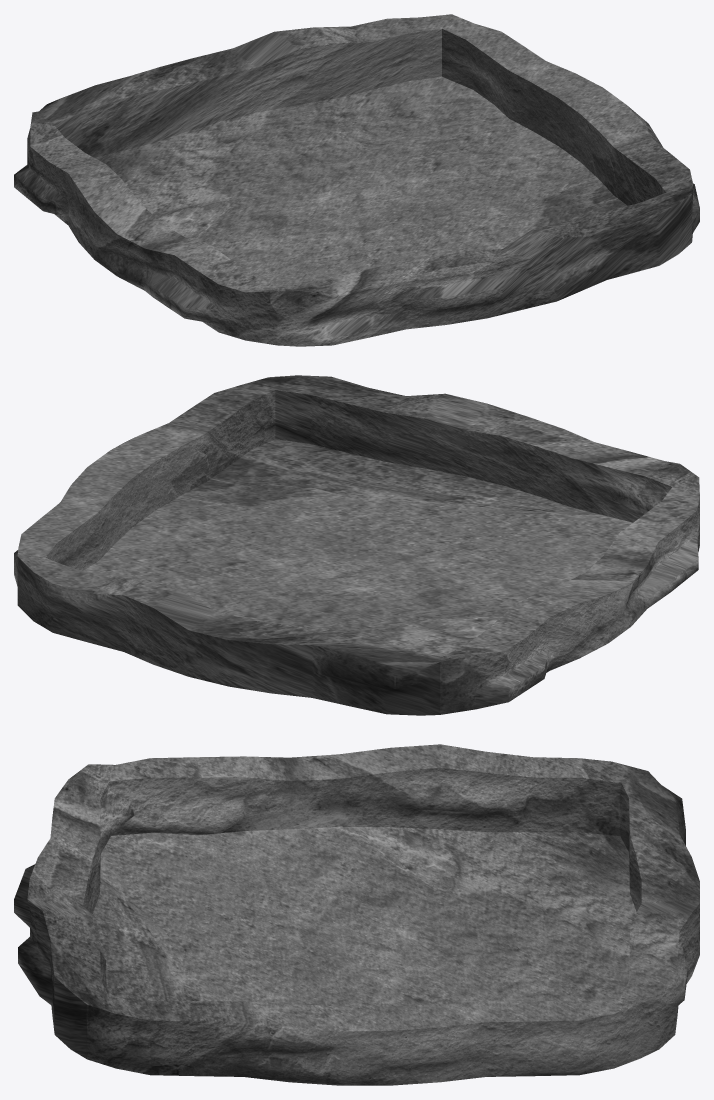
File: garden.glb
The picture shows the model from 3 angles, top to bottom: view 1: azimuth 30°, elevation 25°; view 2: azimuth 150°, elevation 25°; view 3: azimuth 270°, elevation 25°; orthographic projection. The views are drawn at different scales.
Visible parts, largest first — view 1: Garden_hard; view 2: Garden_hard; view 3: Garden_hard.
Boxes of the visible parts, x1=… form: Garden_hard: x1=14, y1=14, x2=699, y2=346; Garden_hard: x1=14, y1=375, x2=699, y2=715; Garden_hard: x1=14, y1=744, x2=699, y2=1085.
Bounding box in the file's own units: 51.14 × 5.62 × 50.85.
Materials: 1 (1 with a texture image).
